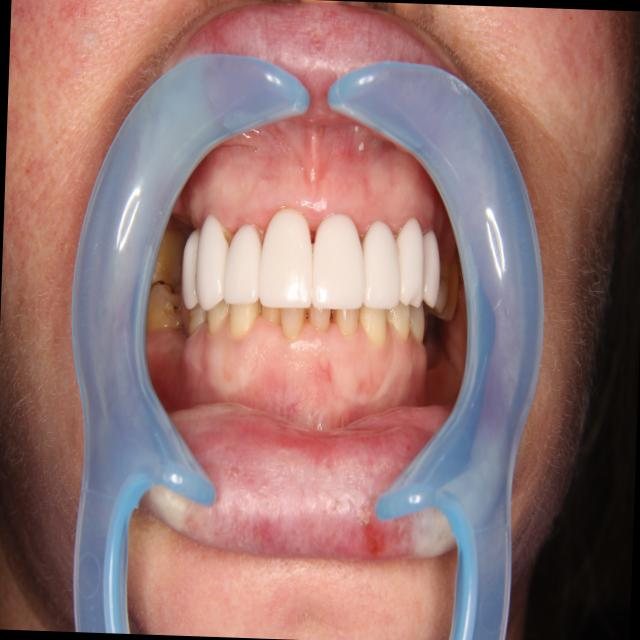tooth: (251, 187, 327, 322), (305, 196, 372, 315), (354, 206, 410, 319), (220, 211, 272, 312), (191, 205, 234, 315), (392, 204, 429, 311), (145, 219, 188, 290), (144, 279, 192, 340), (415, 221, 445, 314), (179, 222, 206, 315), (222, 291, 267, 344), (356, 295, 393, 348), (385, 290, 416, 345), (274, 296, 306, 345), (199, 290, 233, 336), (331, 297, 364, 343), (402, 294, 428, 349), (305, 298, 336, 342), (444, 252, 462, 326), (434, 248, 452, 319), (258, 297, 285, 334), (185, 302, 209, 340)
